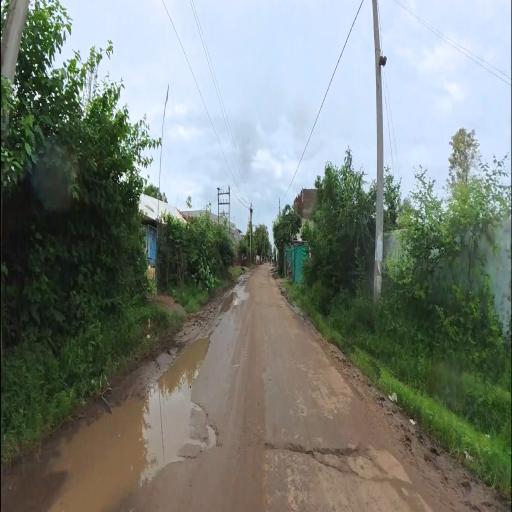longitudinal_crack: (212, 415, 406, 486)
